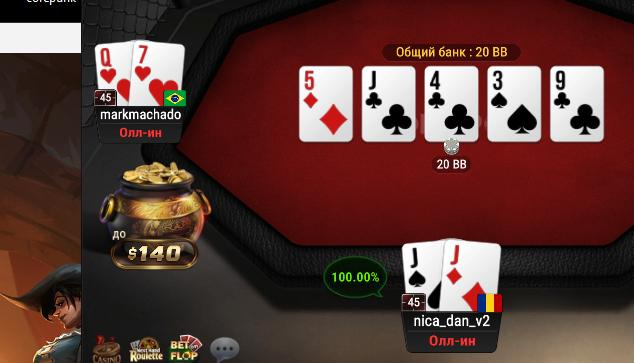3s: (488, 66, 541, 140)
4c: (425, 67, 478, 140)
5d: (300, 66, 353, 140)
7h: (132, 39, 183, 106)
9c: (552, 68, 603, 140)
Jc: (363, 68, 415, 141)
Jd: (442, 240, 502, 313)
Js: (401, 241, 442, 310)
Qh: (95, 43, 134, 106)
